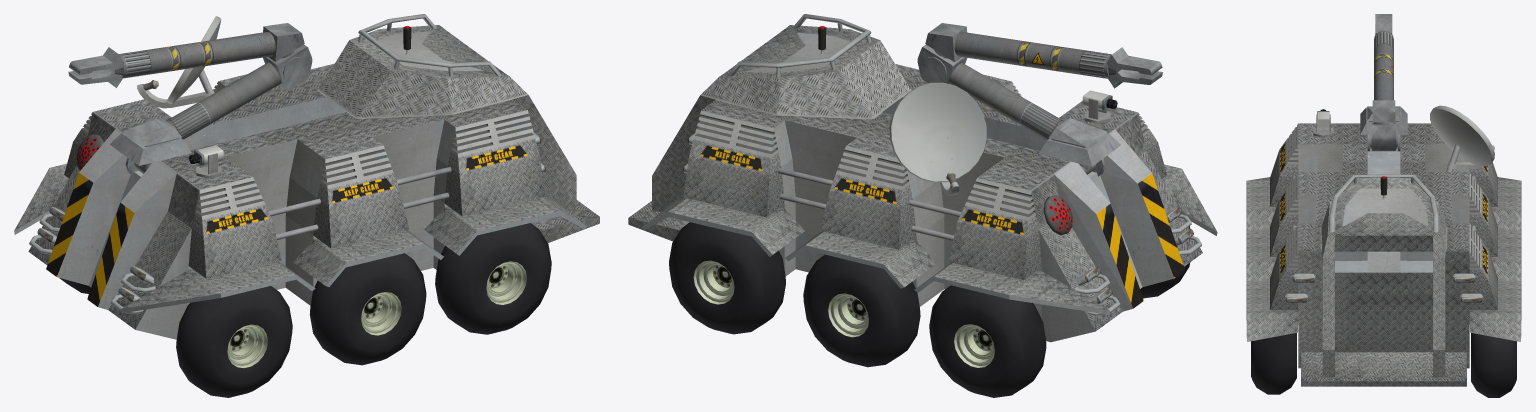
Rendered from malp.obj.
The picture shows the model from 3 angles, left to right: view 1: azimuth 30°, elevation 25°; view 2: azimuth 150°, elevation 25°; view 3: azimuth 270°, elevation 25°; orthographic projection. The views are drawn at different scales.
Visible parts, largest first — view 1: Box01, Cylinder01, Cylinder05, Cylinder06, Cylinder07, Object01, Box02; view 2: Box01, Cylinder01, Cylinder02, Cylinder03, Cylinder04, Box02, Object01; view 3: Box01, Cylinder01, Box02, Object01, Cylinder04, Cylinder07.
Boxes of the visible parts, <box> form: Box01: <box>14,25,599,339</box>; Cylinder01: <box>68,23,312,169</box>; Cylinder05: <box>176,286,292,397</box>; Cylinder06: <box>309,253,426,365</box>; Cylinder07: <box>435,223,551,334</box>; Object01: <box>29,14,545,313</box>; Box02: <box>76,16,221,170</box>; Box01: <box>628,25,1217,342</box>; Cylinder01: <box>917,23,1162,170</box>; Cylinder02: <box>929,285,1046,397</box>; Cylinder03: <box>803,254,920,367</box>; Cylinder04: <box>669,222,785,334</box>; Box02: <box>889,82,1072,235</box>; Object01: <box>683,14,1201,315</box>; Box01: <box>1246,123,1521,386</box>; Cylinder01: <box>1360,14,1407,151</box>; Box02: <box>1430,105,1494,172</box>; Object01: <box>1284,109,1483,302</box>; Cylinder04: <box>1471,333,1516,397</box>; Cylinder07: <box>1251,333,1296,394</box>.
Size of the model in its own units: 114 by 69.1 by 70.62.
